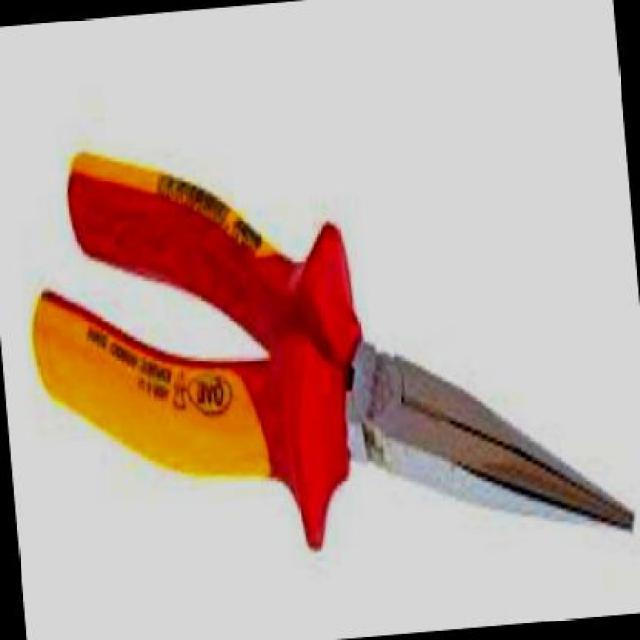pliers: (7, 98, 638, 612)
